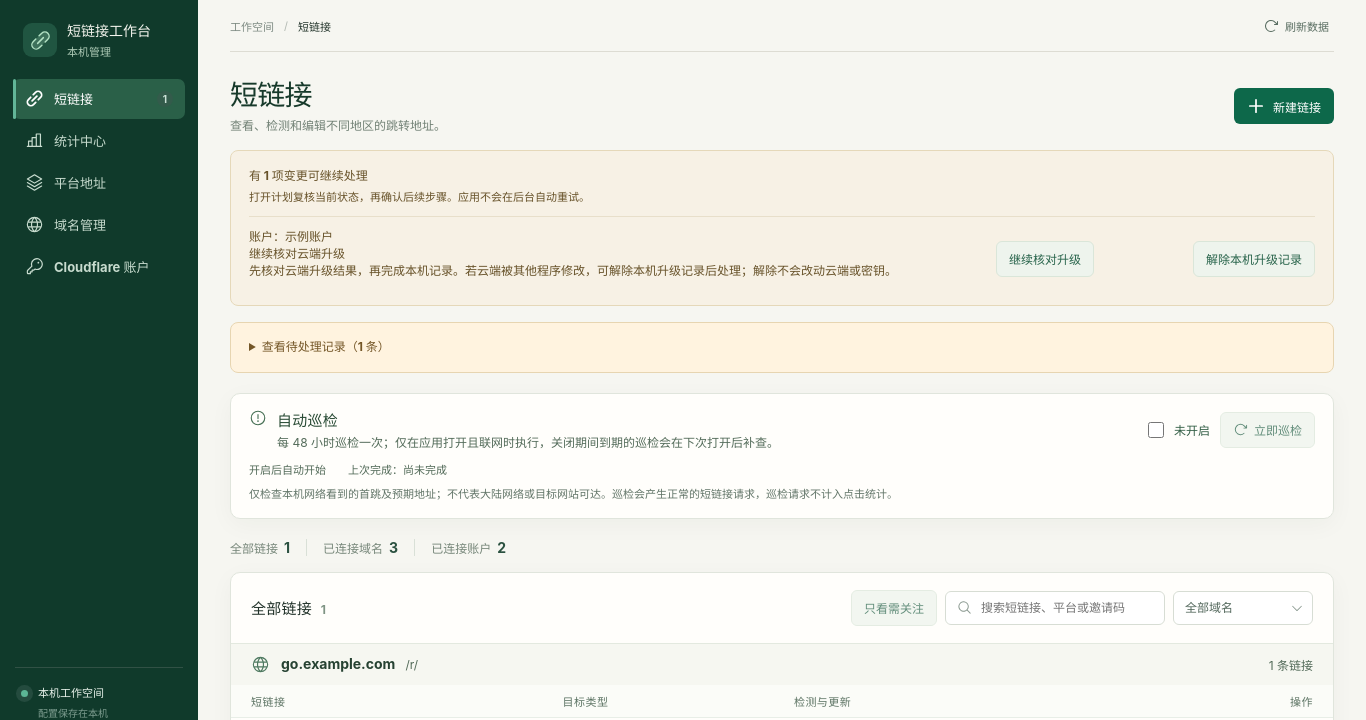
Test: confirmed 解除本机升级记录 reports its actual scope
Step 1. Click the button "解除本机升级记录" → (1254, 259), box [1193,241,1315,277]
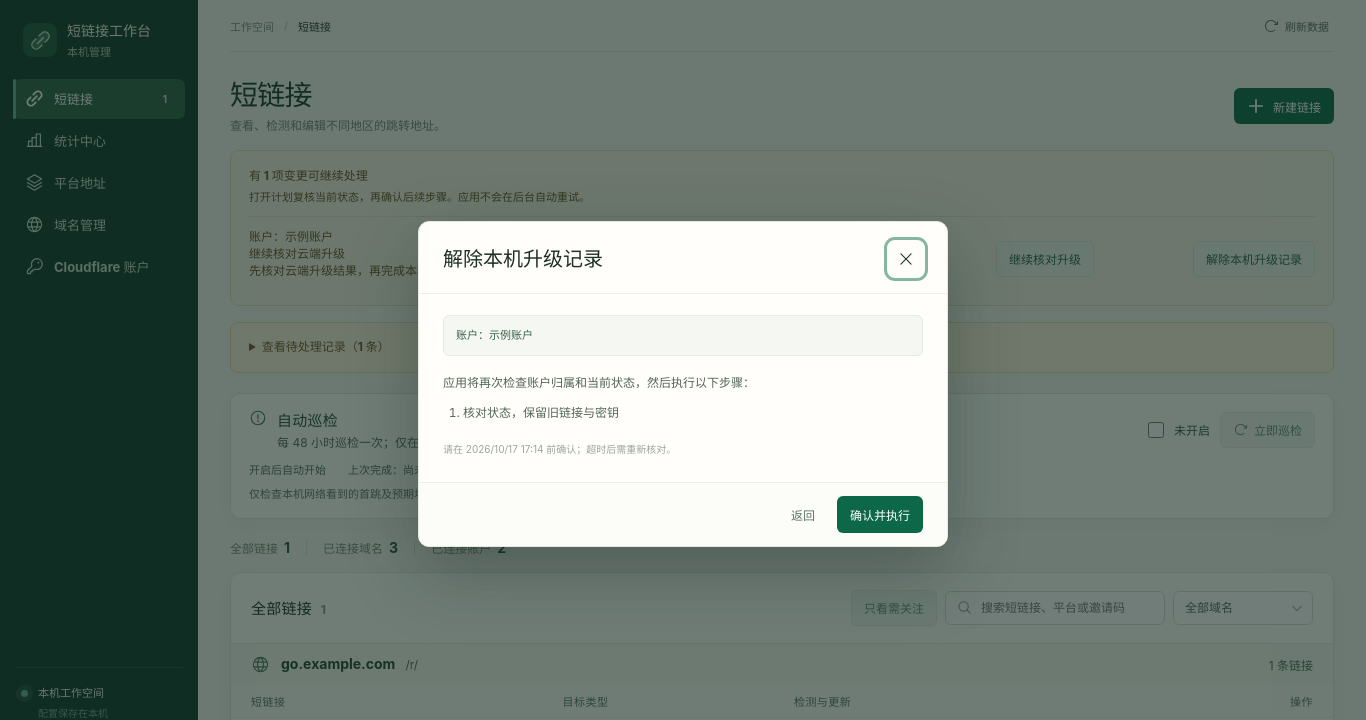
Step 2. Click the button "确认并执行" → (880, 514), box [837,496,923,533]
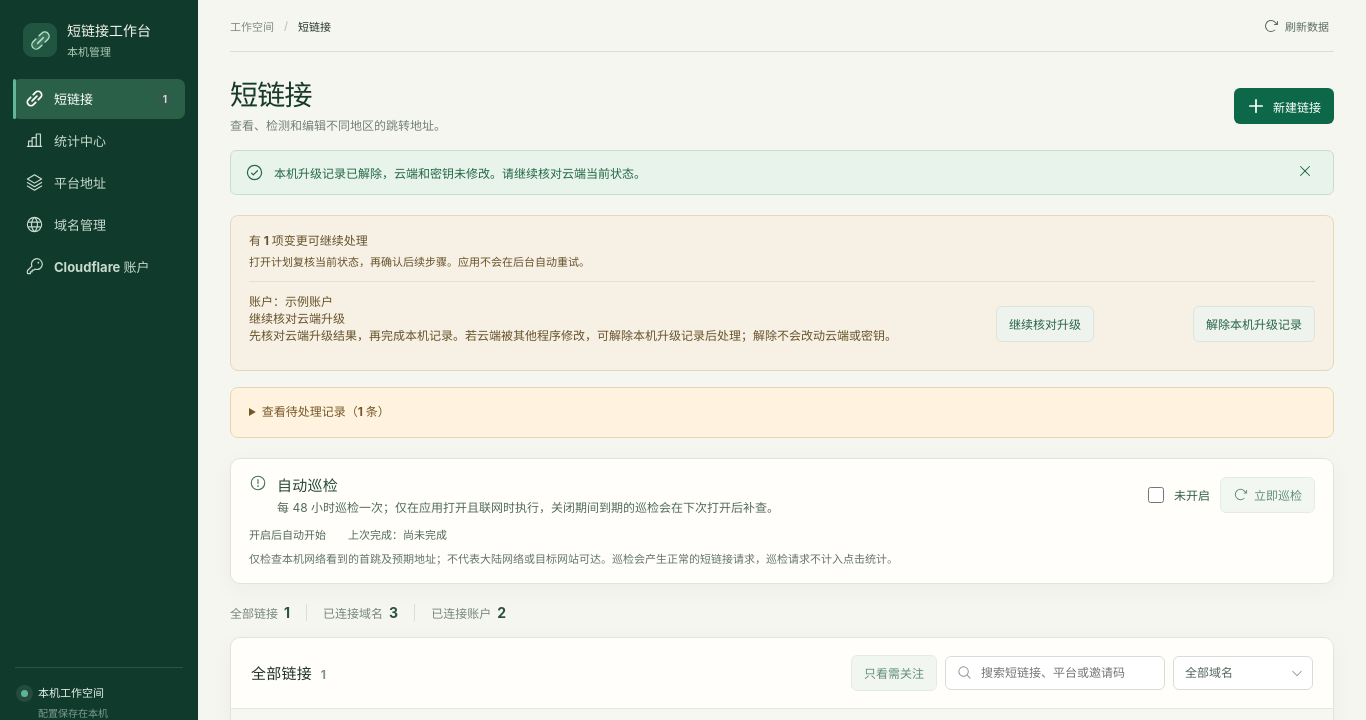
Result: the message shows "本机升级记录已解除，云端和密钥未修改" at [274,166,646,181]
